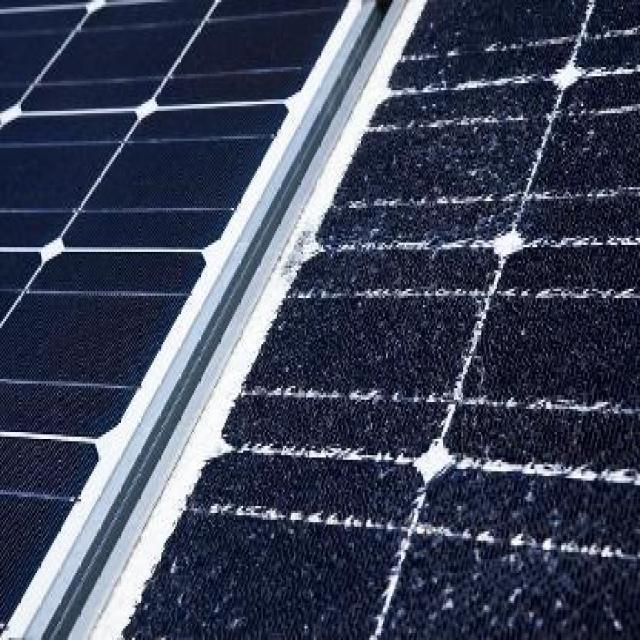cracked: (61, 4, 640, 623)
